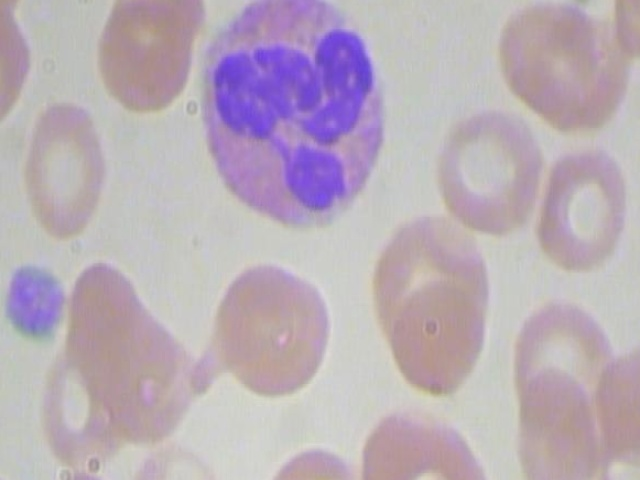Platelets: (0, 256, 69, 346)
RBC: (192, 252, 329, 404), (427, 95, 545, 241), (17, 92, 115, 244), (528, 129, 629, 273), (485, 0, 601, 124), (384, 268, 490, 398), (88, 0, 194, 112), (357, 395, 492, 480), (510, 367, 602, 480), (241, 440, 379, 480), (122, 440, 224, 480), (37, 460, 126, 480)
WBC: (192, 0, 393, 245)
